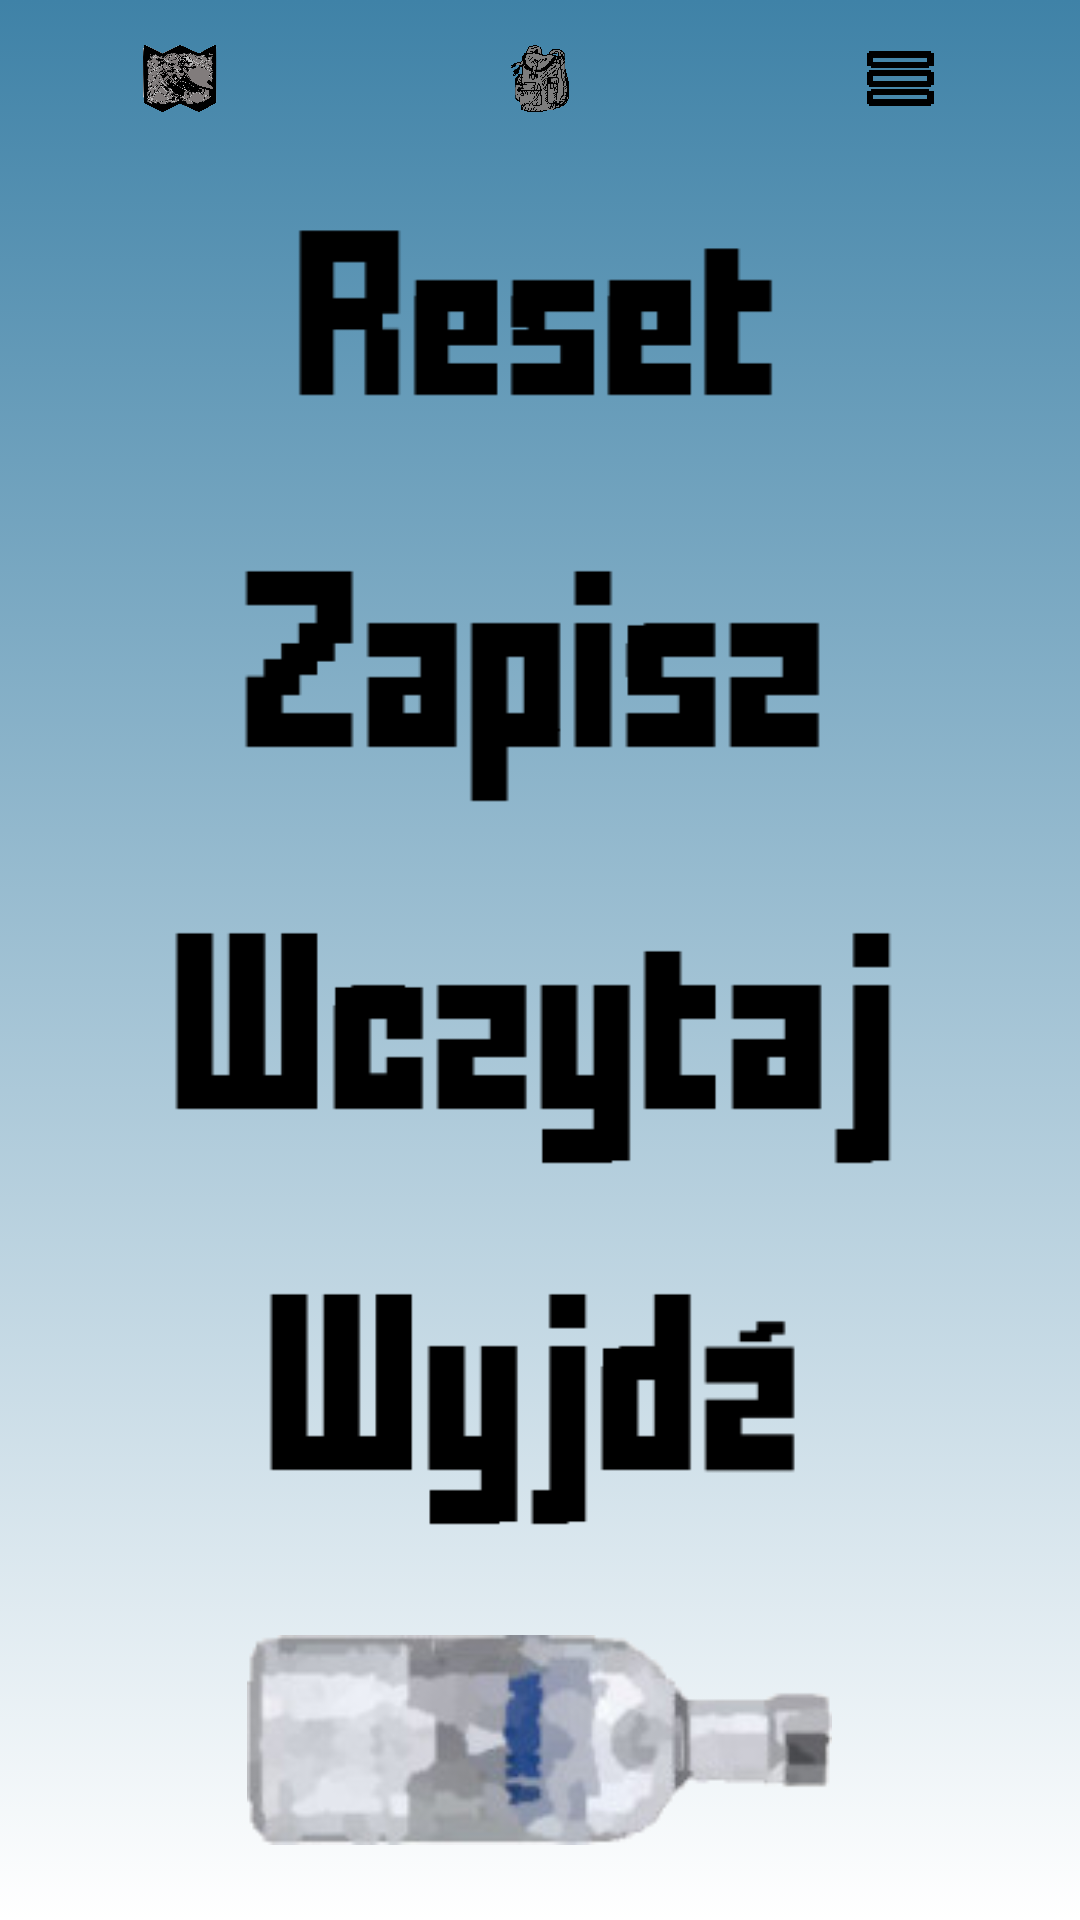

Where to tap for icons on this 1080x1920 app screen, as (x,y):
Equipment: (540,78)
Ingame menu: (900,78)
Map: (179,78)
